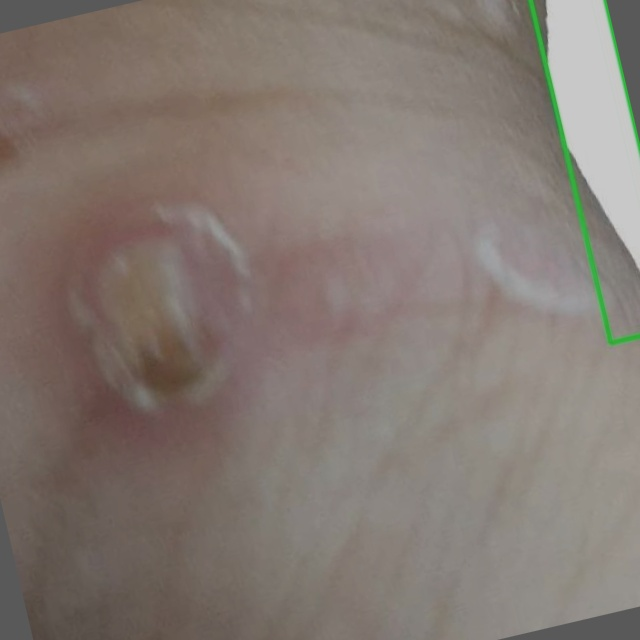Scabies: (530, 0, 639, 344)
